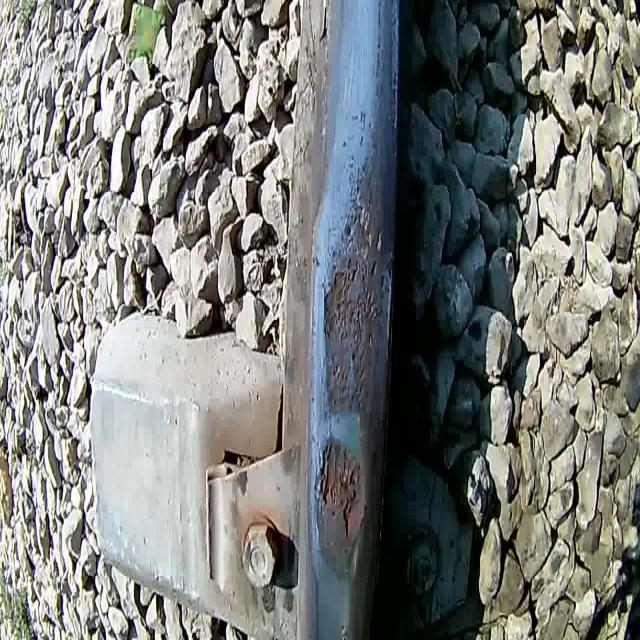Cracks: (314, 433, 335, 507), (342, 486, 353, 544)
Spallings: (320, 256, 379, 414), (343, 176, 384, 255), (338, 448, 364, 491)
Squats: (314, 162, 385, 422), (311, 431, 370, 593)
